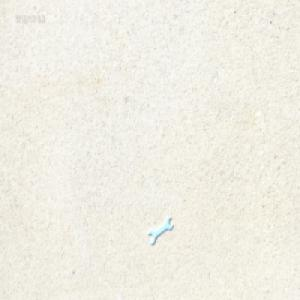Wrench: (147, 218, 172, 247)
